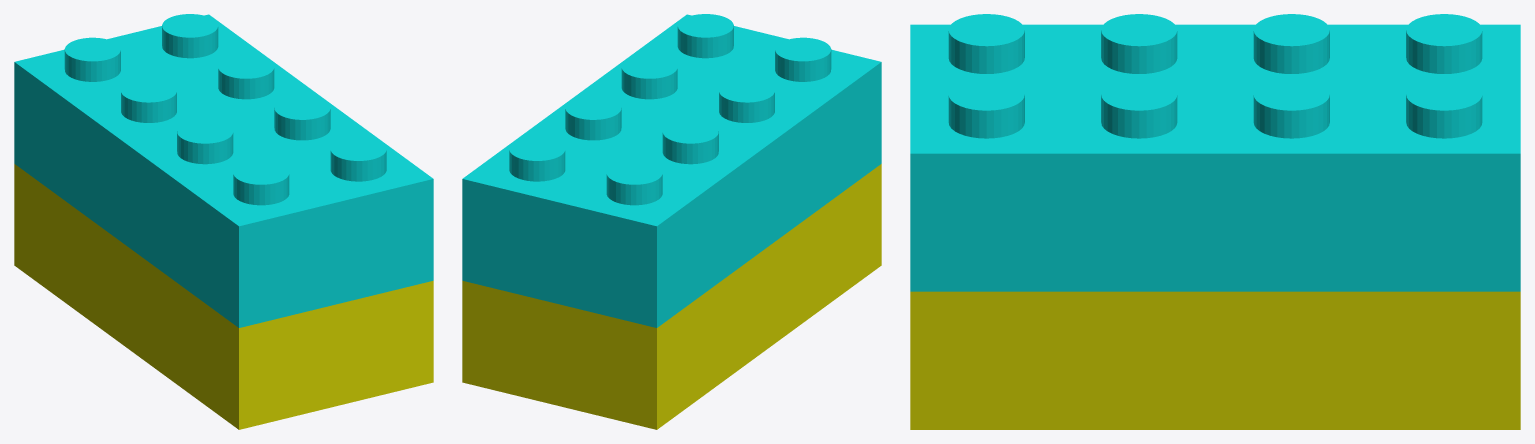
File: Block2.fbx
The picture shows the model from 3 angles, left to right: view 1: azimuth 30°, elevation 25°; view 2: azimuth 150°, elevation 25°; view 3: azimuth 270°, elevation 25°; orthographic projection. The views are drawn at different scales.
Parts seen in each view (by area): view 1: Block4; view 2: Block4; view 3: Block4.
Part boxes in pixels (box(x1,y1,x2,y2)): Block4: box(14, 14, 433, 429); Block4: box(462, 14, 881, 429); Block4: box(910, 14, 1520, 429).
Size of the model in its own units: 200 by 220 by 400.
